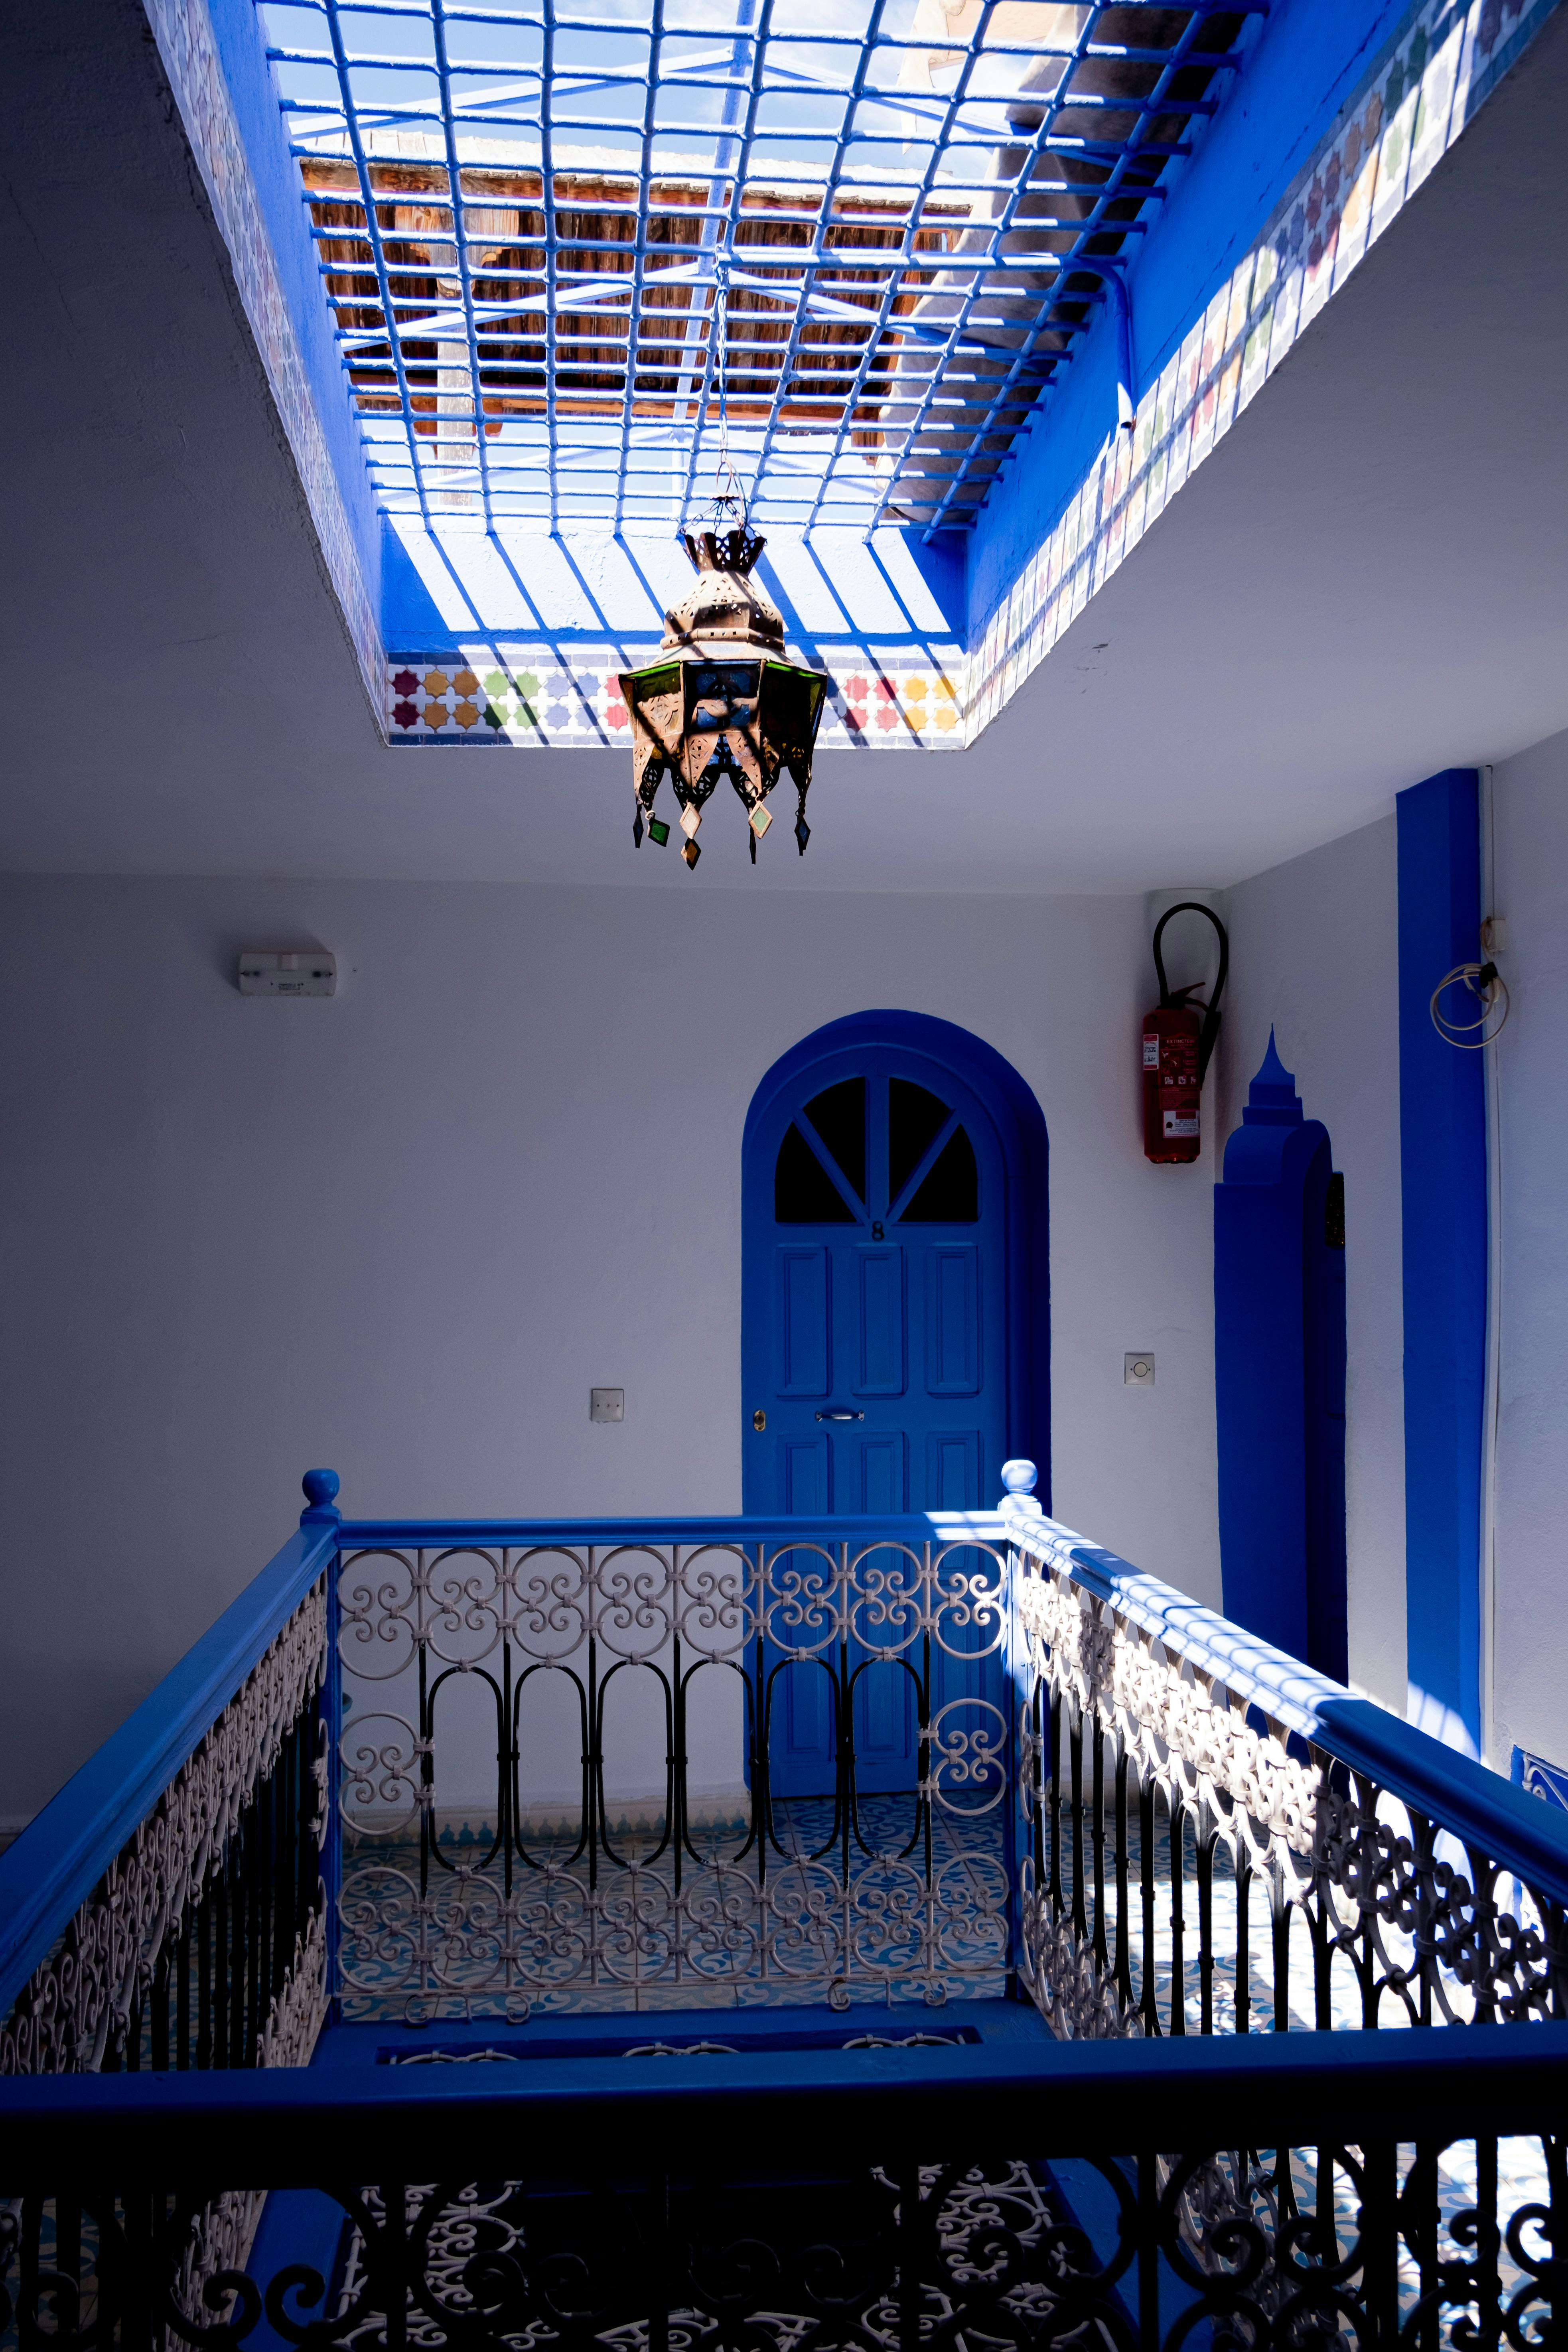extintor: (1127, 892, 1241, 1174)
